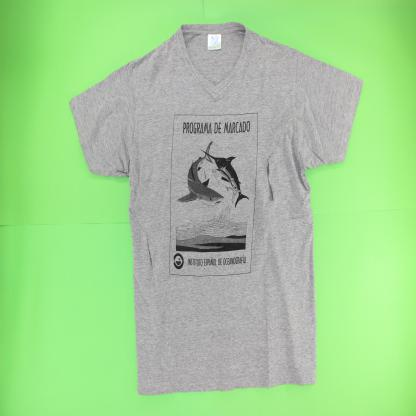hole: (266, 155, 276, 204), (145, 230, 155, 273)
